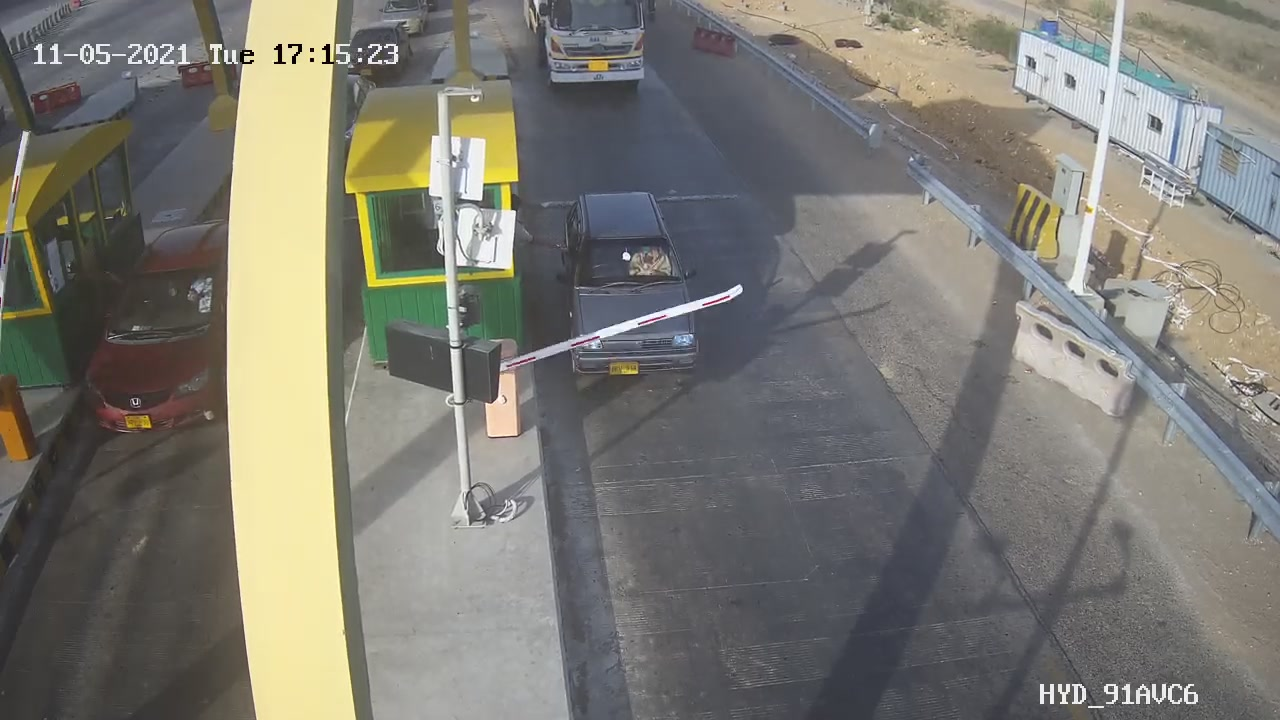F1: (540, 181, 726, 399)
